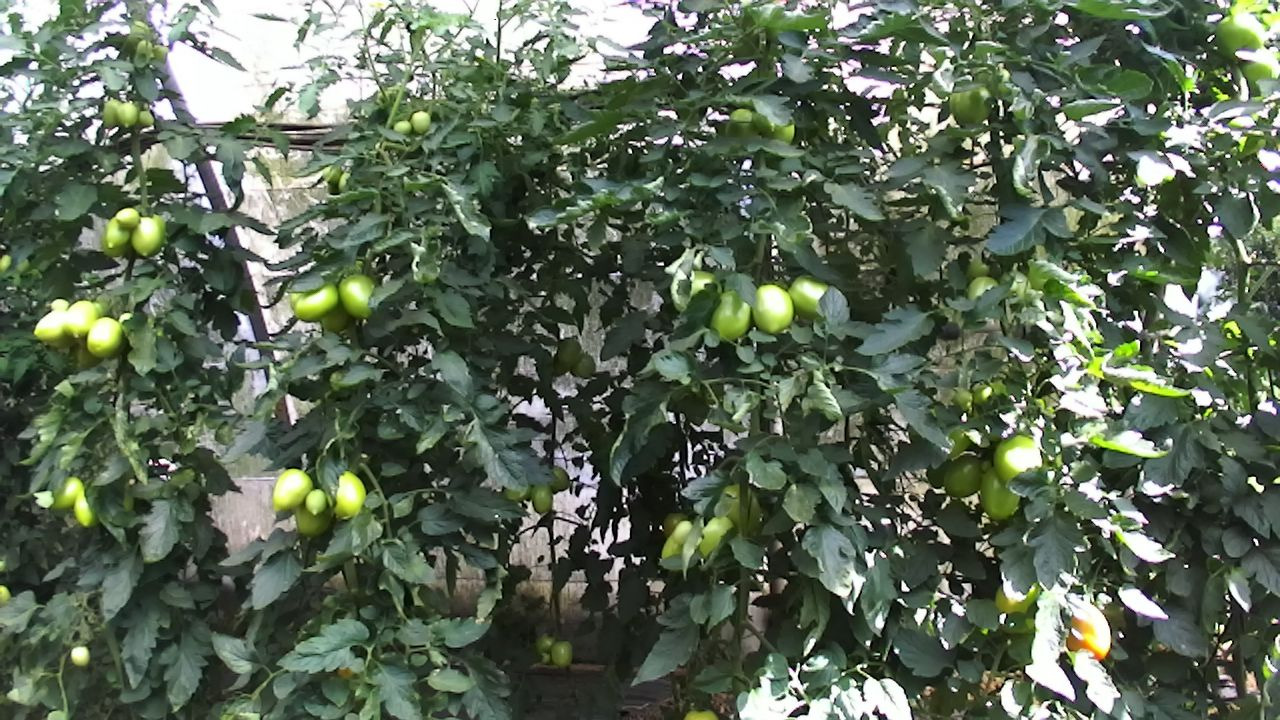tomato: (1059, 593, 1116, 666), (988, 429, 1047, 486), (979, 459, 1024, 524), (750, 282, 797, 337), (941, 451, 988, 499), (335, 272, 380, 321), (270, 465, 314, 513), (292, 280, 339, 323), (29, 304, 77, 346), (84, 314, 123, 360), (128, 214, 165, 259), (62, 298, 97, 340), (303, 486, 329, 519), (548, 637, 574, 670), (530, 480, 554, 515), (112, 102, 139, 131), (67, 642, 91, 669), (113, 207, 141, 230), (409, 109, 432, 135), (533, 630, 555, 657), (391, 118, 413, 135)
